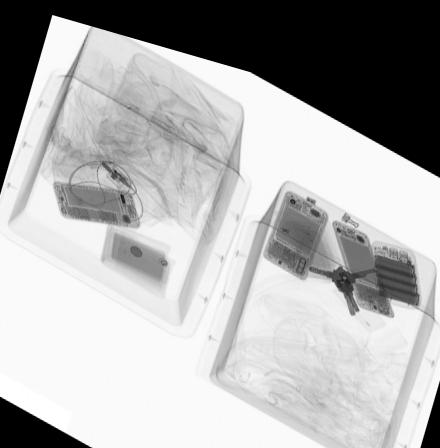Powerbank: (367, 216, 426, 287)
